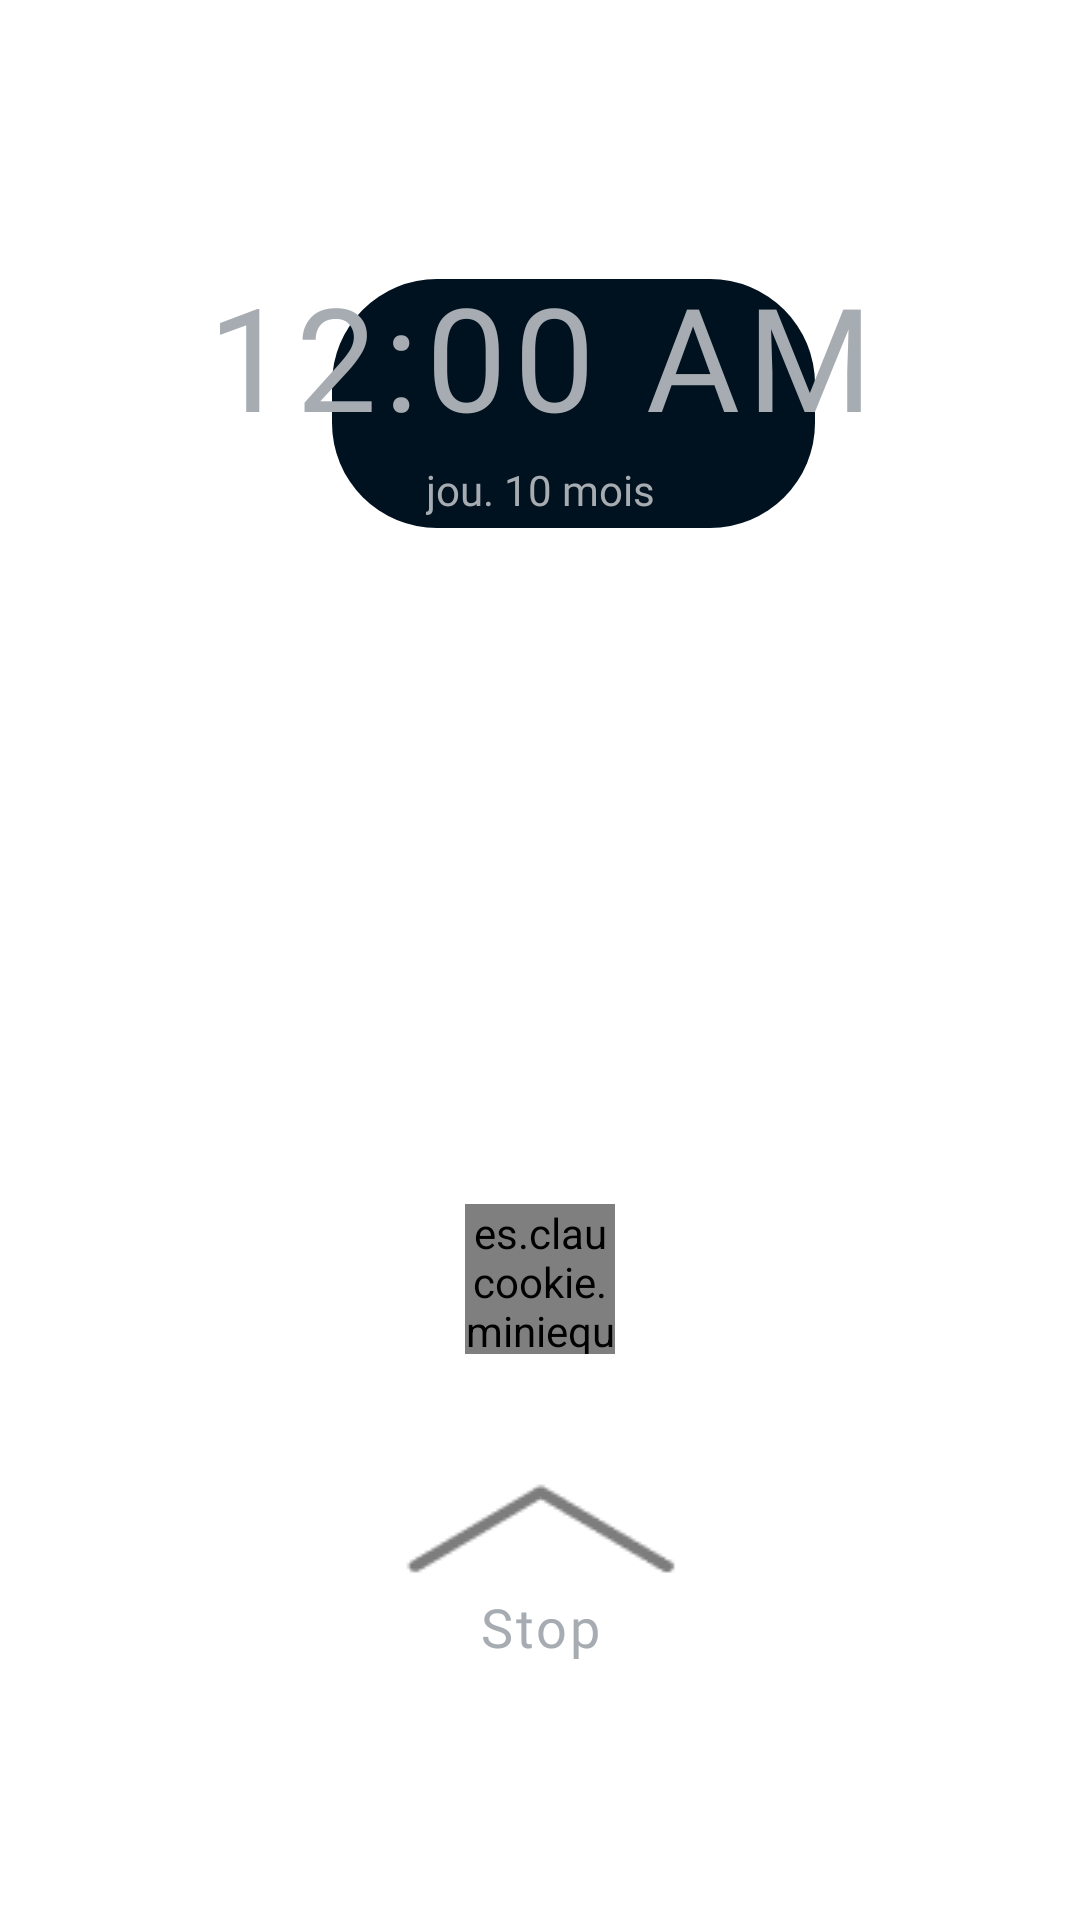

Icons on this 1080px×1920px Android screen, each with the point to tap as (x,y):
wide arrow: (541,1529)
